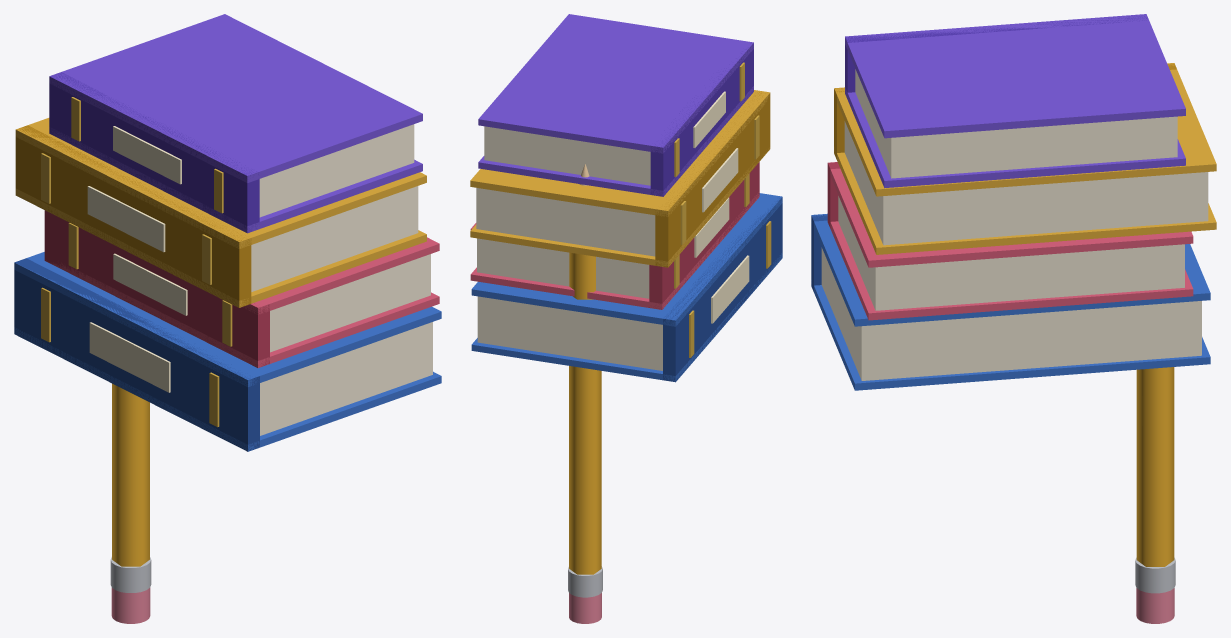
Rendered from graduation.glb.
The picture shows the model from 3 angles, left to right: view 1: azimuth 30°, elevation 25°; view 2: azimuth 150°, elevation 25°; view 3: azimuth 270°, elevation 25°; orthographic projection. The views are drawn at different scales.
Parts seen in each view (by area): view 1: grip_neg, grip_pos; view 2: grip_neg, grip_pos; view 3: grip_neg, grip_pos.
Boxes of the visible parts, box(x1,y1,x2,y2) form: grip_neg: box(14, 14, 441, 451); grip_pos: box(110, 383, 151, 623); grip_neg: box(470, 14, 782, 382); grip_pos: box(568, 164, 602, 623); grip_neg: box(811, 14, 1216, 390); grip_pos: box(1135, 367, 1175, 623).
Size of the model in its own units: 0.1796 by 0.3516 by 0.2306.
